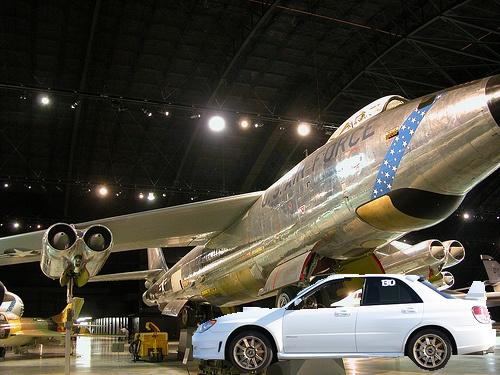tampered: (193, 275, 496, 373)
